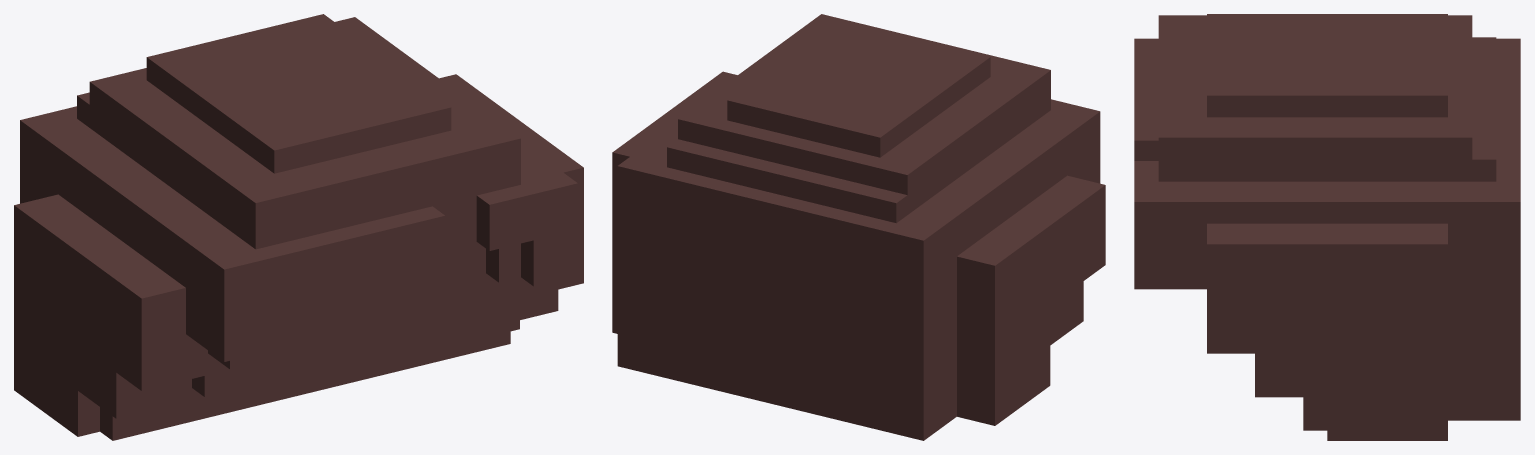
The picture shows the model from 3 angles, left to right: view 1: azimuth 30°, elevation 25°; view 2: azimuth 150°, elevation 25°; view 3: azimuth 270°, elevation 25°; orthographic projection. The views are drawn at different scales.
Parts seen in each view (by area): view 1: 27; view 2: 27; view 3: 27.
Part boxes in pixels (bbox=[...]): 27: bbox=[14, 14, 583, 440]; 27: bbox=[612, 14, 1105, 440]; 27: bbox=[1134, 14, 1520, 440].
Bounding box in the file's own units: 200 × 130 × 160.
Materials: 1 (1 with a texture image).
